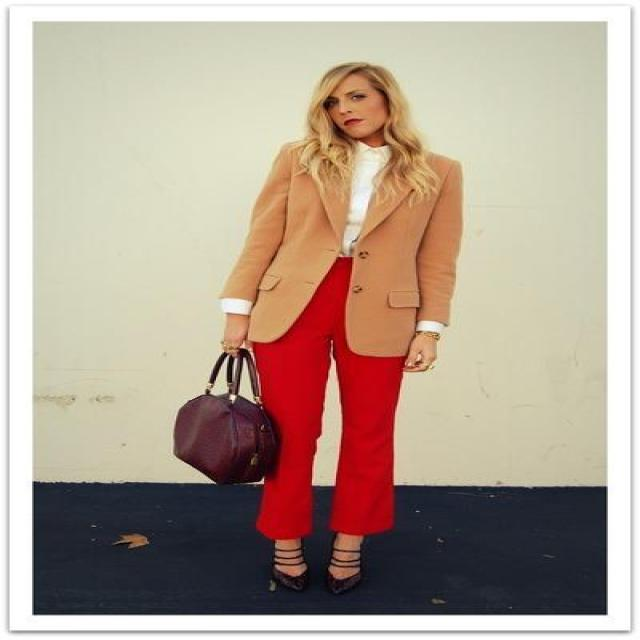bag: (174, 348, 280, 483)
jacket: (221, 141, 461, 370)
pants: (253, 257, 413, 540)
shirt: (203, 142, 466, 349)
shoe: (251, 562, 296, 594)
